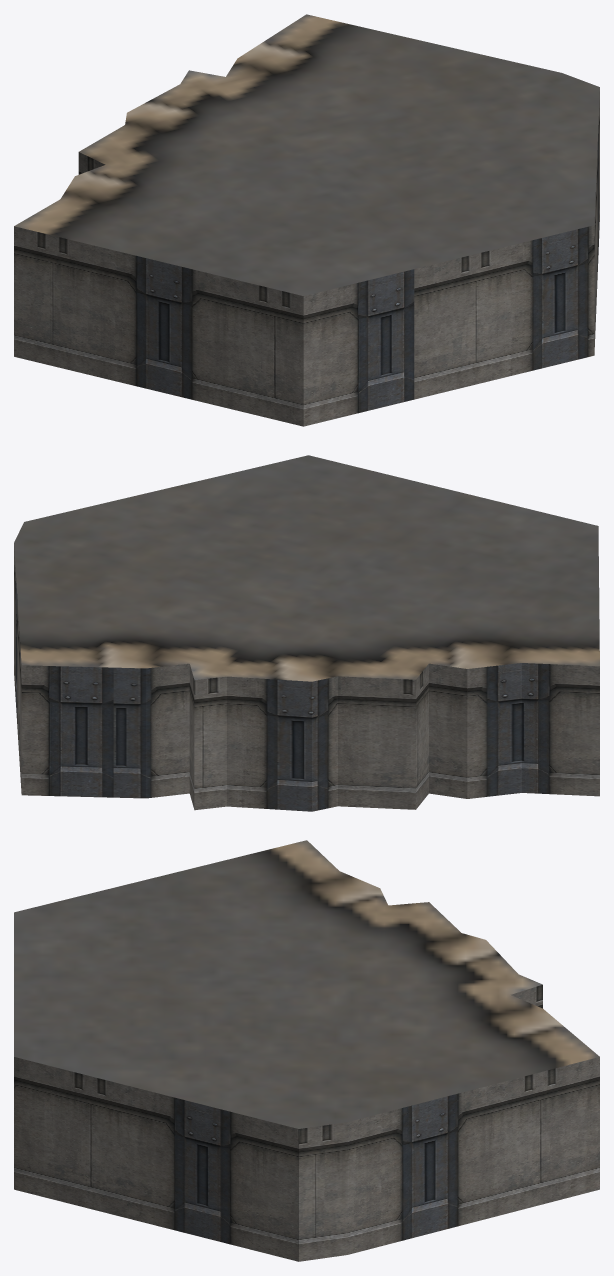
File: building_heavy_30.glb
The picture shows the model from 3 angles, top to bottom: view 1: azimuth 30°, elevation 25°; view 2: azimuth 150°, elevation 25°; view 3: azimuth 270°, elevation 25°; orthographic projection. The views are drawn at different scales.
Visible parts, largest first — view 1: buildings/saxarba/building_heavy/building_heavy_30; view 2: buildings/saxarba/building_heavy/building_heavy_30; view 3: buildings/saxarba/building_heavy/building_heavy_30.
Boxes of the visible parts, x1,y1,x2,y2 form: buildings/saxarba/building_heavy/building_heavy_30: (14, 14, 599, 426); buildings/saxarba/building_heavy/building_heavy_30: (14, 455, 599, 811); buildings/saxarba/building_heavy/building_heavy_30: (14, 840, 599, 1261).
Bounding box in the file's own units: 84 × 18 × 72.
